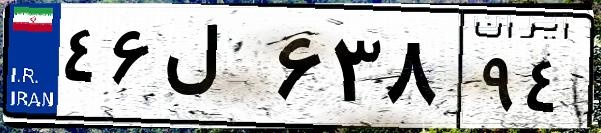3: (330, 28, 385, 110)
4: (57, 26, 110, 100), (525, 38, 570, 115)
6: (270, 28, 330, 110), (110, 28, 158, 98)
8: (385, 28, 445, 110)
9: (475, 38, 525, 113)
ل: (158, 20, 270, 120)
